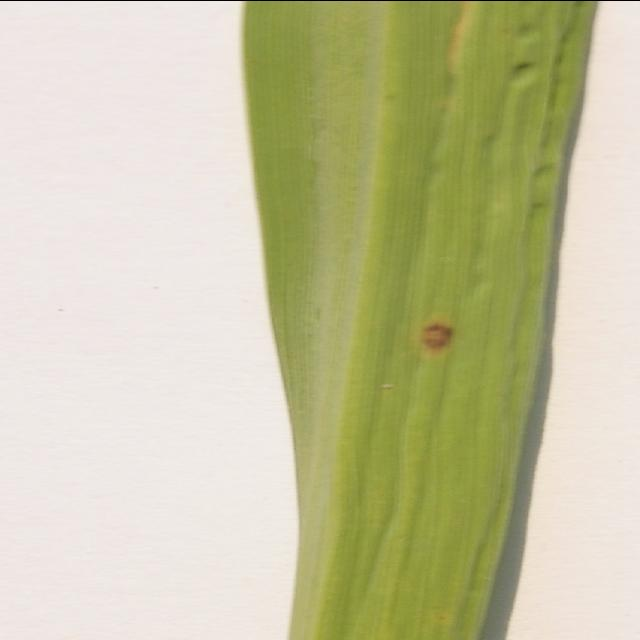Unhealthy: (412, 319, 457, 357)
